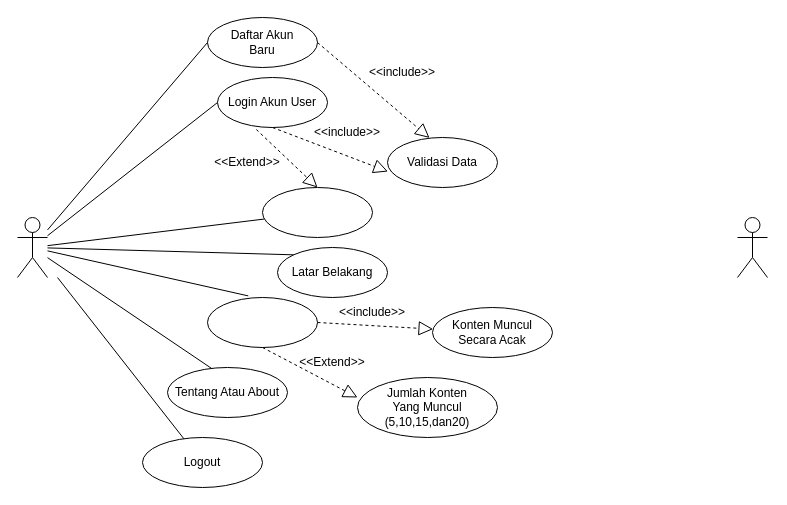
The diagram is 787 pixels wide and 505 high, and some of its shapes have lost their labels. The centre of each missing label's shape, as x and y in pixels:
Admin: the point at 752,247
Pengisian Data Akun: the point at 317,212
Rekomendasi Konten: the point at 262,322
User: the point at 32,247
